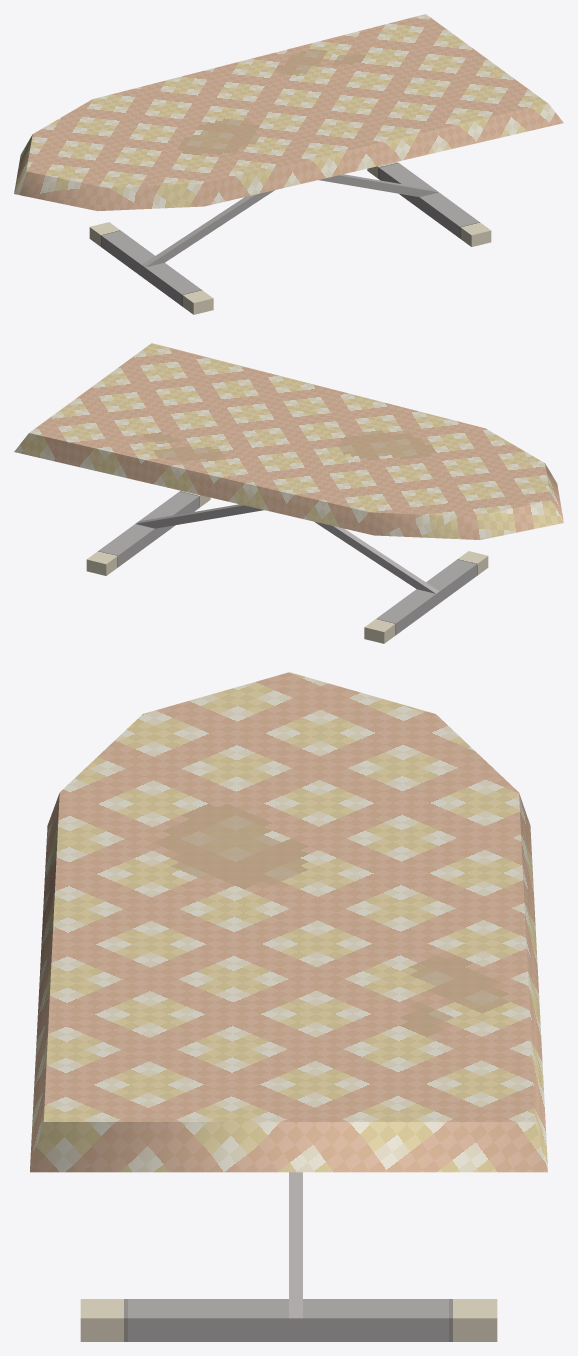
File: 04b3_Ironing_Board.glb
3 views of the same model, one above another, from view 1: azimuth 30°, elevation 25°; view 2: azimuth 150°, elevation 25°; view 3: azimuth 270°, elevation 25° (orthographic). The views are drawn at different scales.
Visible parts, largest first — view 1: part_0; view 2: part_0; view 3: part_0.
Boxes of the visible parts, x1=… form: part_0: x1=14, y1=14, x2=563, y2=314; part_0: x1=14, y1=343, x2=563, y2=643; part_0: x1=30, y1=672, x2=547, y2=1341.
Size of the model in its own units: 0.86 by 0.226 by 0.3978.
Materials: 1 (1 with a texture image).
